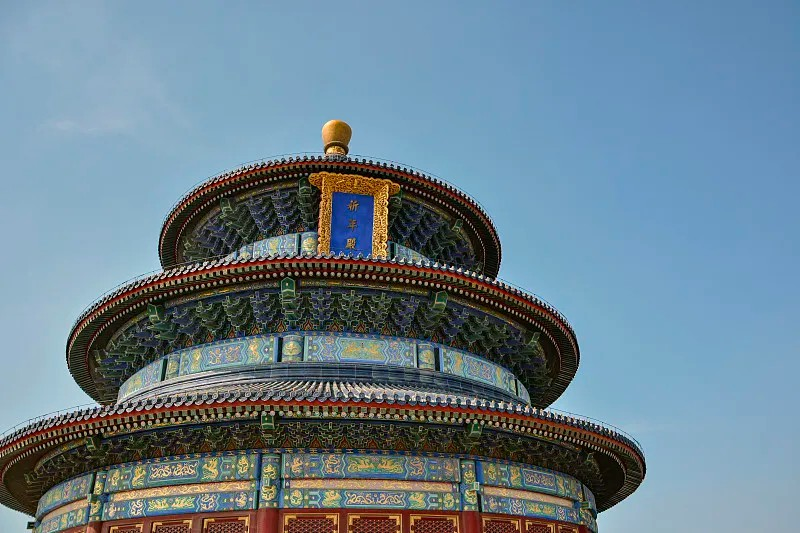Heaven: (1, 120, 648, 533)
